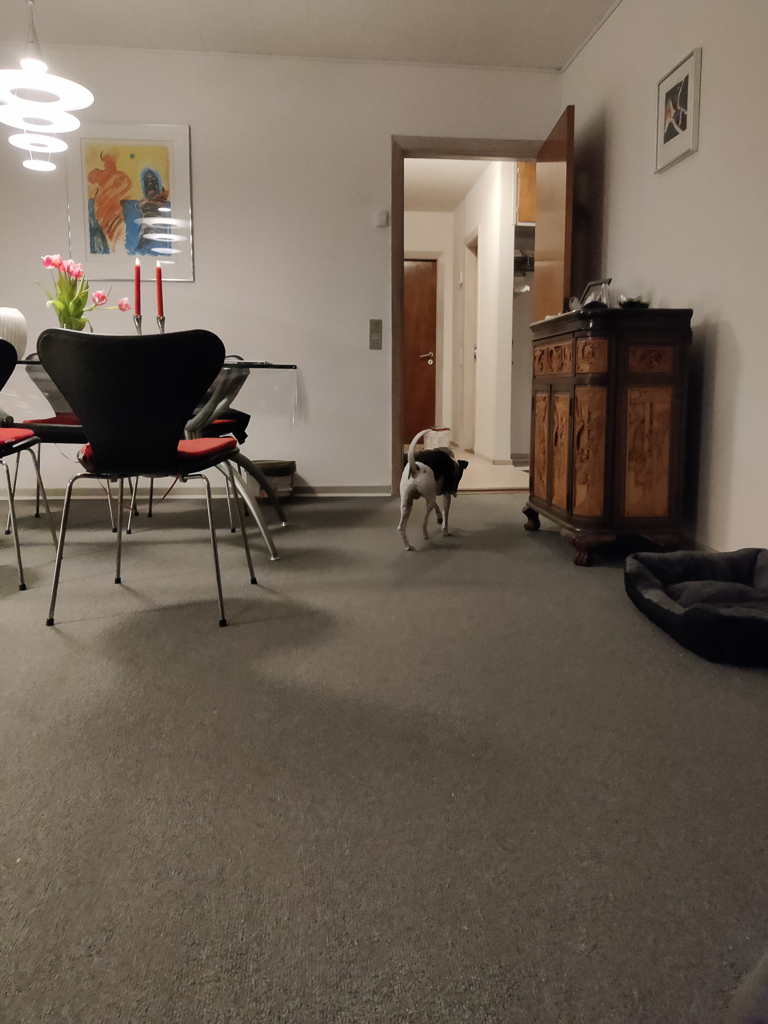Dog: (390, 422, 474, 562)
